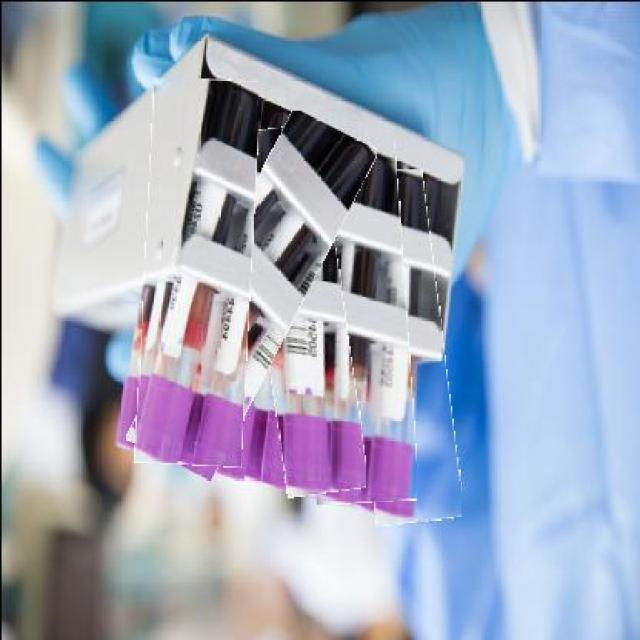Experimental-tube: (163, 107, 339, 479), (138, 76, 254, 464), (295, 142, 411, 503), (248, 122, 354, 495), (344, 168, 451, 522)
